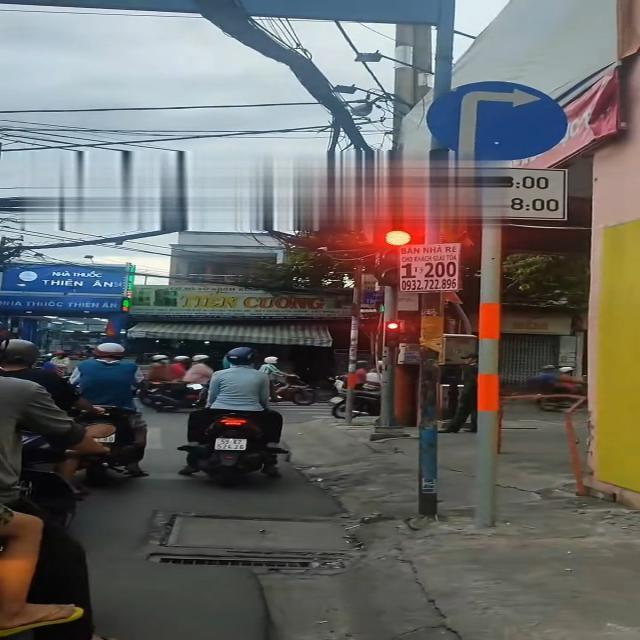301d-cac-xe-chi-duoc-re-phai-2: (424, 78, 570, 164)
